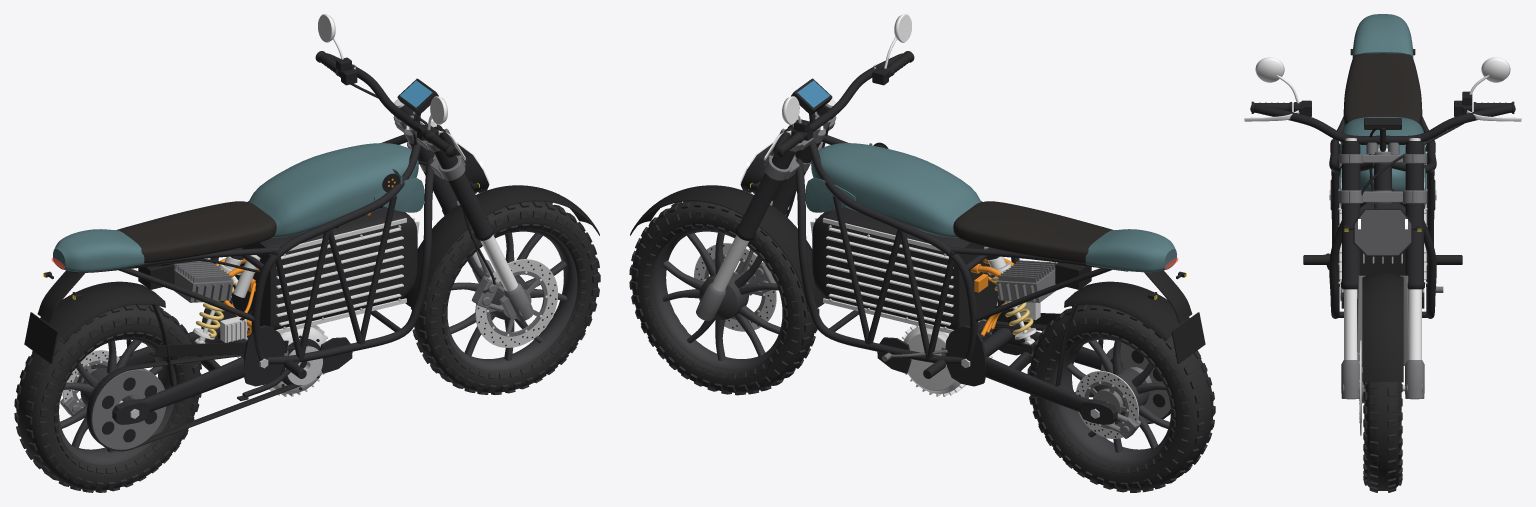
The model's file is bike_electric.glb.
The picture shows the model from 3 angles, left to right: view 1: azimuth 30°, elevation 25°; view 2: azimuth 150°, elevation 25°; view 3: azimuth 270°, elevation 25°; orthographic projection.
Visible parts, largest first — view 1: wheels__rear_wheel__tyre, wheels__front_wheel__tyre, frame_body__frame__trellis, powertrain__traction_battery__case, frame_body__tank_cover, frame_body__seat, powertrain__traction_battery__cooling_fins, frame_body__front_mudguard, transmission__rear_pulley, frame_body__rear_hugger, chassis__swingarm, frame_body__tail_cowl (+22 smaller); view 2: wheels__rear_wheel__tyre, wheels__front_wheel__tyre, frame_body__frame__trellis, powertrain__traction_battery__case, frame_body__tank_cover, frame_body__seat, powertrain__traction_battery__cooling_fins, wheels__front_wheel__cast_spokes, chassis__swingarm, frame_body__front_mudguard, frame_body__rear_hugger, frame_body__tail_cowl (+22 smaller); view 3: frame_body__seat, frame_body__front_mudguard, frame_body__frame__trellis, wheels__front_wheel__tyre, electrical__headlight__housing, chassis__handlebar__bar, electrical__headlight__lens, chassis__front_fork__left_outer_tube, chassis__front_fork__right_outer_tube, frame_body__tail_cowl, frame_body__tank_cover, chassis__steering__lower_triple_clamp (+15 smaller).
Part boxes in pixels (x1,y1,x2,y2): wheels__rear_wheel__tyre: [14, 304, 201, 492]; wheels__front_wheel__tyre: [411, 201, 600, 394]; frame_body__frame__trellis: [201, 134, 434, 386]; powertrain__traction_battery__case: [231, 207, 417, 329]; frame_body__tank_cover: [249, 143, 418, 237]; frame_body__seat: [116, 201, 276, 262]; powertrain__traction_battery__cooling_fins: [232, 214, 419, 333]; frame_body__front_mudguard: [402, 185, 599, 311]; transmission__rear_pulley: [91, 368, 166, 449]; frame_body__rear_hugger: [40, 281, 174, 386]; chassis__swingarm: [77, 324, 246, 424]; frame_body__tail_cowl: [53, 229, 144, 272]; wheels__rear_wheel__tyre: [1027, 304, 1215, 492]; wheels__front_wheel__tyre: [629, 201, 819, 395]; frame_body__frame__trellis: [795, 135, 1022, 386]; powertrain__traction_battery__case: [812, 207, 998, 329]; frame_body__tank_cover: [811, 143, 980, 237]; frame_body__seat: [953, 201, 1113, 262]; powertrain__traction_battery__cooling_fins: [810, 214, 997, 333]; wheels__front_wheel__cast_spokes: [662, 233, 780, 360]; chassis__swingarm: [983, 323, 1117, 424]; frame_body__front_mudguard: [630, 185, 826, 311]; frame_body__rear_hugger: [1055, 281, 1189, 386]; frame_body__tail_cowl: [1085, 229, 1176, 272]; frame_body__seat: [1343, 53, 1422, 125]; frame_body__front_mudguard: [1362, 272, 1403, 382]; frame_body__frame__trellis: [1329, 139, 1436, 318]; wheels__front_wheel__tyre: [1363, 382, 1402, 492]; electrical__headlight__housing: [1353, 208, 1412, 256]; chassis__handlebar__bar: [1250, 104, 1515, 144]; electrical__headlight__lens: [1355, 210, 1410, 254]; chassis__front_fork__left_outer_tube: [1341, 141, 1360, 289]; chassis__front_fork__right_outer_tube: [1405, 141, 1424, 289]; frame_body__tail_cowl: [1352, 14, 1413, 58]; frame_body__tank_cover: [1340, 117, 1425, 191]; chassis__steering__lower_triple_clamp: [1338, 190, 1427, 203].
Size of the model in its own units: 210 by 127 by 87.18.
